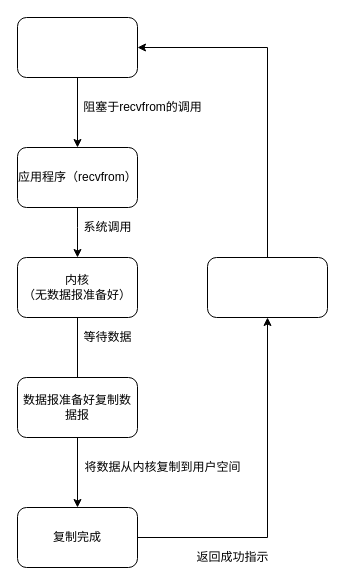
Image size: 345x585. Some labels were removed from this diagram. The box of each missing label's shape, as (x1, y1, x2, y2) in pixels:
处理数据报: (206, 256, 328, 318)
用户进程: (16, 16, 138, 78)
